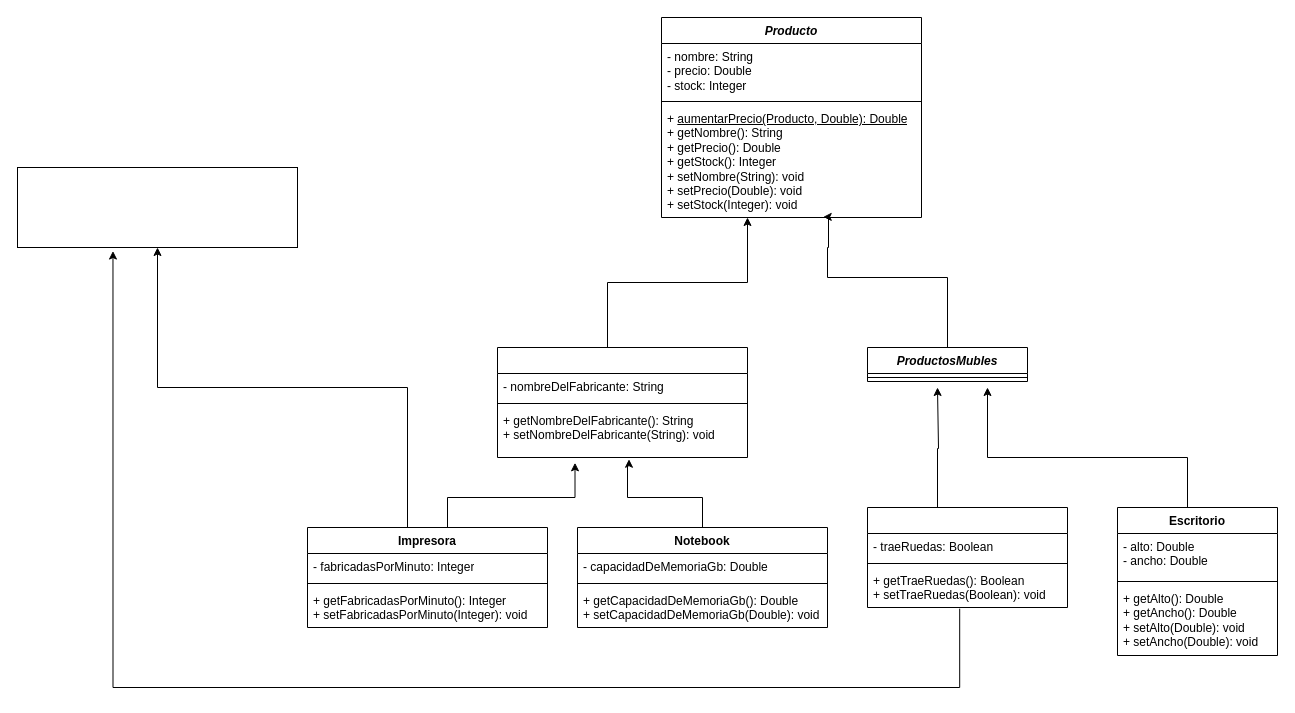
The diagram is 1295 pixels wide and 713 high, and some of its shapes have lost their labels. Here are the shapes that lost their labels. From the top down, the box of each, then its label:
(16, 166, 298, 248): <<Interface>> EnOferta + obtenerPrecioConDescuento(Double): Double
(496, 346, 748, 458): ProductosInformaticos
(866, 506, 1068, 608): Silla
